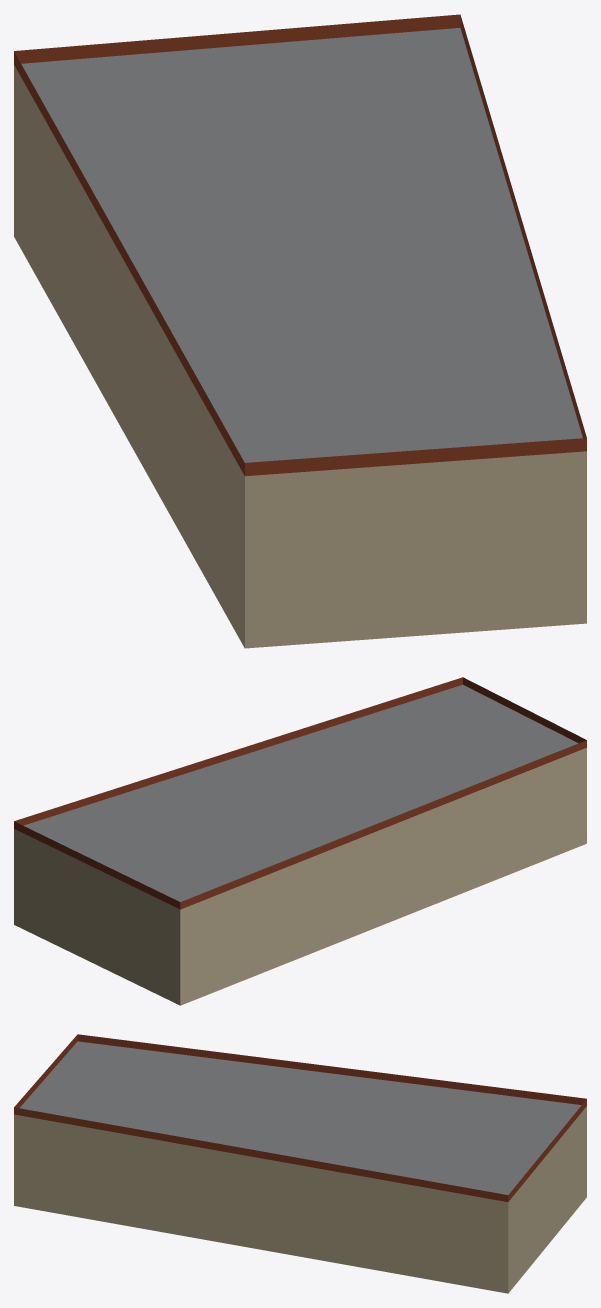
The model's file is pasar-bawah-lod2.glb.
3 views of the same model, one above another, from view 1: azimuth 30°, elevation 25°; view 2: azimuth 150°, elevation 25°; view 3: azimuth 270°, elevation 25° (orthographic). The views are drawn at different scales.
Parts seen in each view (by area): view 1: pasar-bawah_LOD2; view 2: pasar-bawah_LOD2; view 3: pasar-bawah_LOD2.
Boxes of the visible parts, <box> form: pasar-bawah_LOD2: <box>14,14,586,648</box>; pasar-bawah_LOD2: <box>14,677,586,1005</box>; pasar-bawah_LOD2: <box>14,1034,586,1293</box>.
Size of the model in its own units: 63.4 by 18.1 by 95.4.
